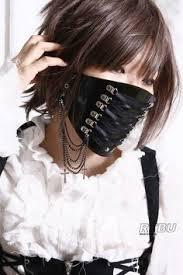OK: (61, 51, 160, 150)
